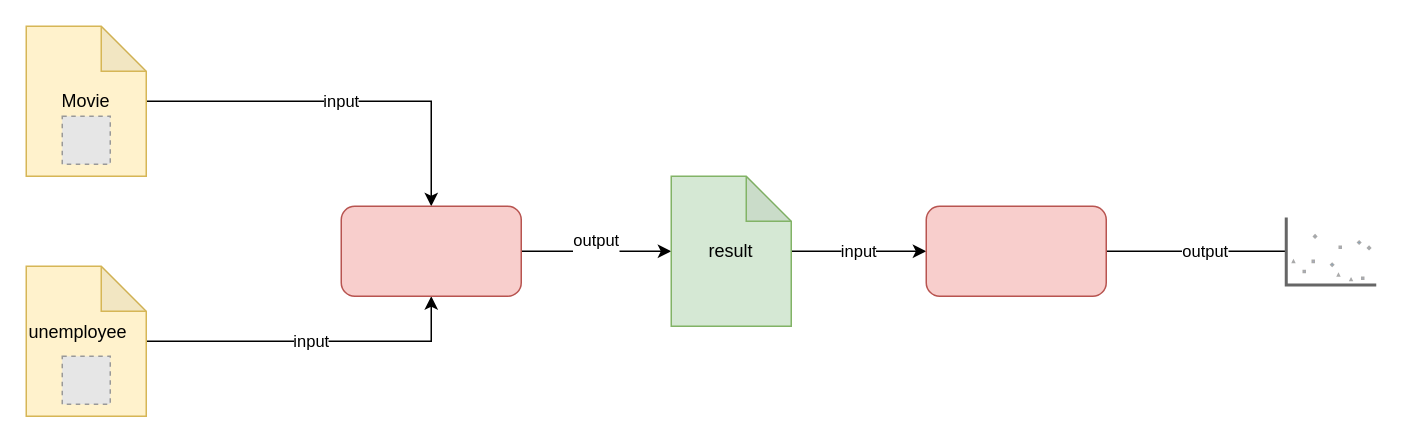
Image size: 1403x443. Some labels were removed from this diagram. Grey dashed boxes stand in for pictures. The centre of each missing label's shape, as x and y in pixels:
DataTransfer.py: (x=430, y=250)
DataVisualization.py: (x=1015, y=250)
